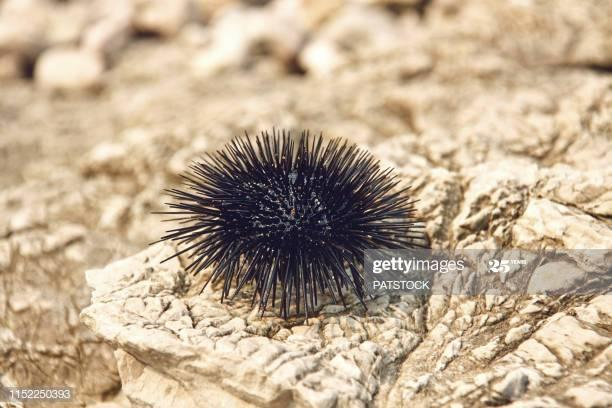urchin: (152, 125, 433, 323)
